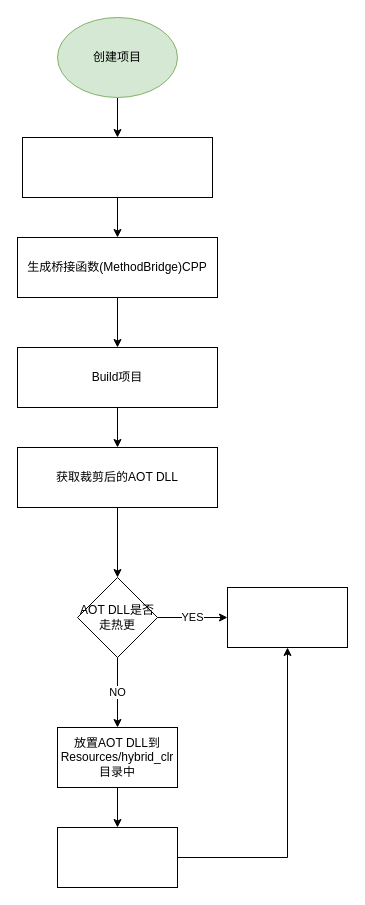
The diagram is 365 pixels wide and 905 high, and some of its shapes have lost their labels. The centre of each missing label's shape, as x and y in pixels:
"发布项目" goes at (x=287, y=617).
"安装IL2CPP的本地化文件" goes at (x=117, y=167).
"重新Build项目" goes at (x=117, y=857).
